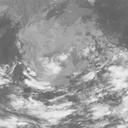cyclone: (39, 54, 112, 116)
